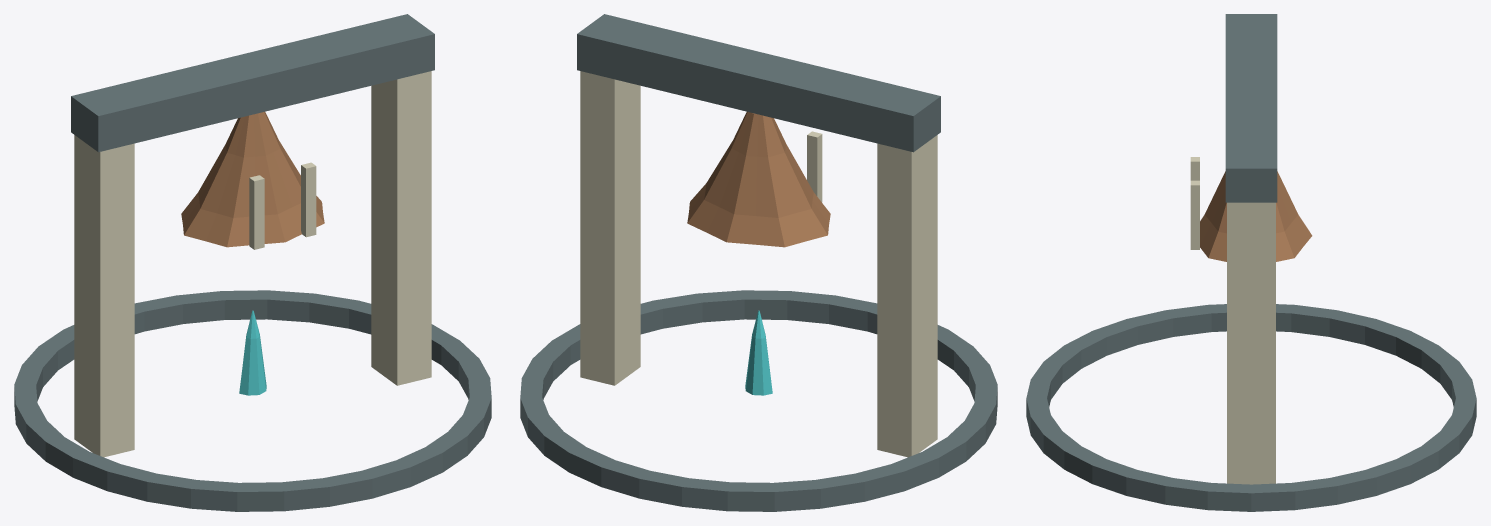
File: open_bell.fbx
3 views of the same model, side by side, from view 1: azimuth 30°, elevation 25°; view 2: azimuth 150°, elevation 25°; view 3: azimuth 270°, elevation 25° (orthographic). The views are drawn at different scales.
Visible parts, largest first — view 1: bell_dais, bell_lintel, bell_gate_-1, bell_gate_1, open_bell_shell, source_splinter.004, bell_seam_-1, bell_seam_1; view 2: bell_dais, bell_lintel, bell_gate_-1, bell_gate_1, open_bell_shell, source_splinter.004, bell_seam_-1; view 3: bell_dais, bell_gate_1, bell_lintel, open_bell_shell, bell_seam_1.
Part boxes in pixels (left/top/right/bottom): bell_dais: left=14, top=290, right=491, bottom=511; bell_lintel: left=71, top=14, right=434, bottom=152; bell_gate_-1: left=74, top=135, right=134, bottom=457; bell_gate_1: left=371, top=71, right=431, bottom=385; open_bell_shell: left=181, top=111, right=324, bottom=247; source_splinter.004: left=239, top=310, right=266, bottom=395; bell_seam_-1: left=249, top=175, right=264, bottom=249; bell_seam_1: left=301, top=162, right=316, bottom=237; bell_dais: left=520, top=290, right=997, bottom=511; bell_lintel: left=577, top=14, right=940, bottom=152; bell_gate_-1: left=877, top=135, right=937, bottom=457; bell_gate_1: left=580, top=71, right=640, bottom=385; open_bell_shell: left=687, top=111, right=830, bottom=247; source_splinter.004: left=745, top=310, right=772, bottom=395; bell_seam_-1: left=807, top=131, right=822, bottom=202; bell_dais: left=1026, top=304, right=1476, bottom=511; bell_gate_1: left=1227, top=202, right=1275, bottom=484; bell_lintel: left=1225, top=14, right=1277, bottom=202; open_bell_shell: left=1200, top=171, right=1312, bottom=261; bell_seam_1: left=1190, top=180, right=1199, bottom=249.
Size of the model in its own units: 480 by 383 by 480.
